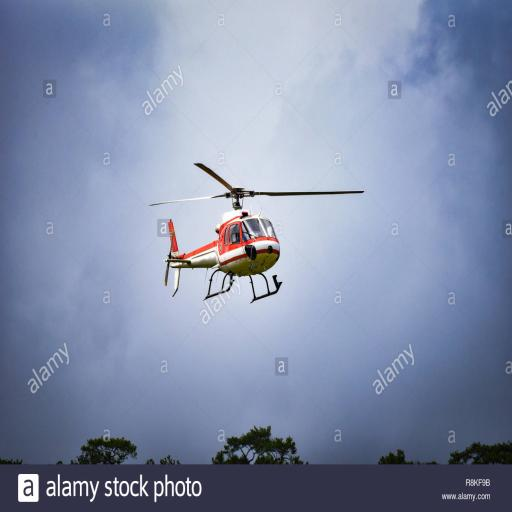helicopter: (149, 165, 366, 304)
